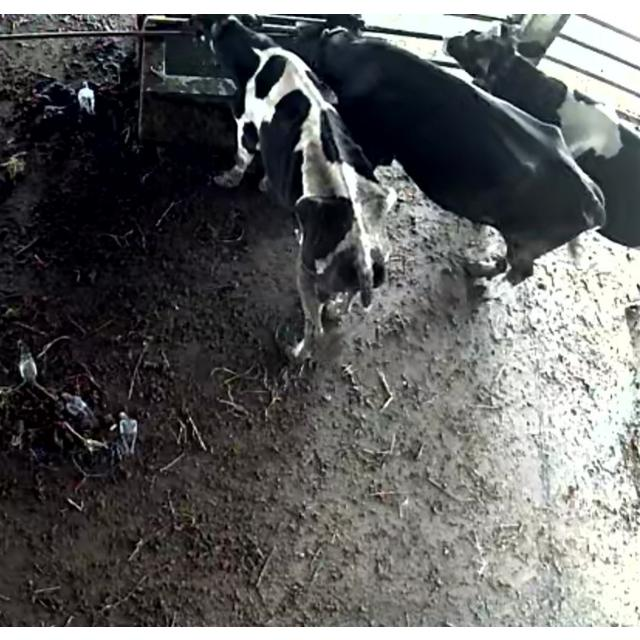drink: (186, 16, 300, 132), (289, 17, 393, 124)
